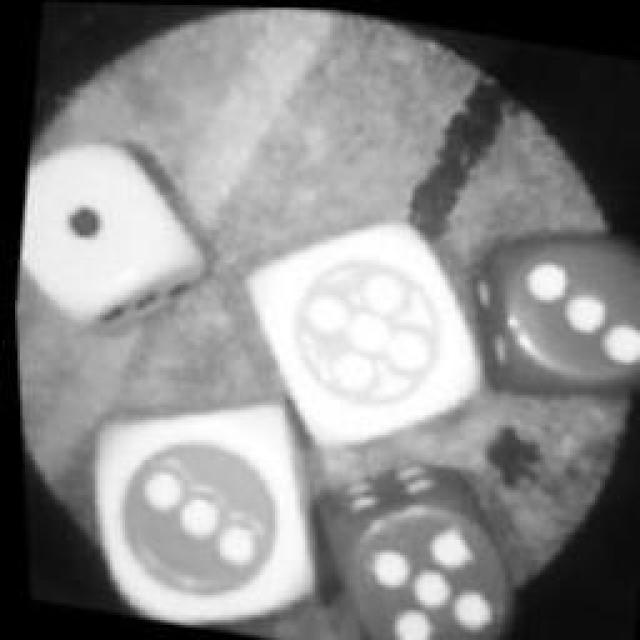dice_1: (5, 119, 220, 351)
dice_3: (74, 380, 331, 640), (467, 214, 640, 407)
dice_5: (218, 185, 500, 467), (301, 455, 534, 640)
